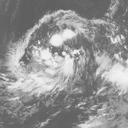cyclone: (8, 36, 74, 98), (93, 50, 127, 95)
